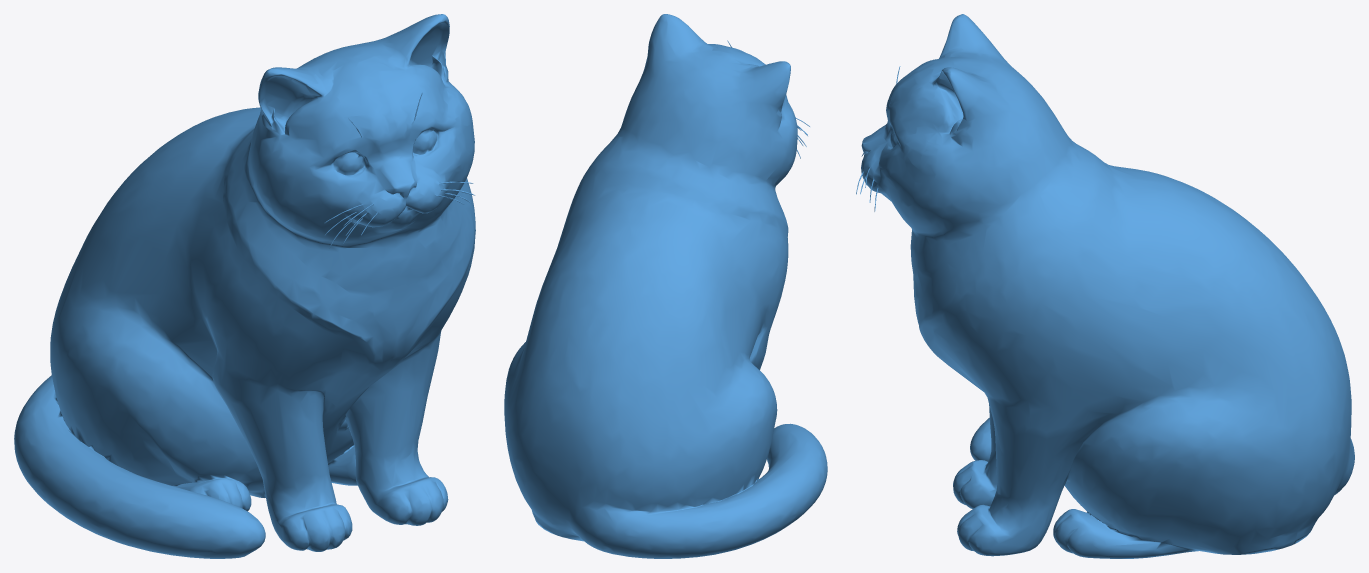
Rendered from gato_mesh.glb.
3 views of the same model, side by side, from view 1: azimuth 30°, elevation 25°; view 2: azimuth 150°, elevation 25°; view 3: azimuth 270°, elevation 25° (orthographic). The views are drawn at different scales.
Parts seen in each view (by area): view 1: SittingCat; view 2: SittingCat; view 3: SittingCat.
Boxes of the visible parts, x1,y1,x2,y2 form: SittingCat: (14,14,475,558); SittingCat: (504,14,827,558); SittingCat: (856,14,1354,558).
Bounding box in the file's own units: 142 × 200 × 187.
